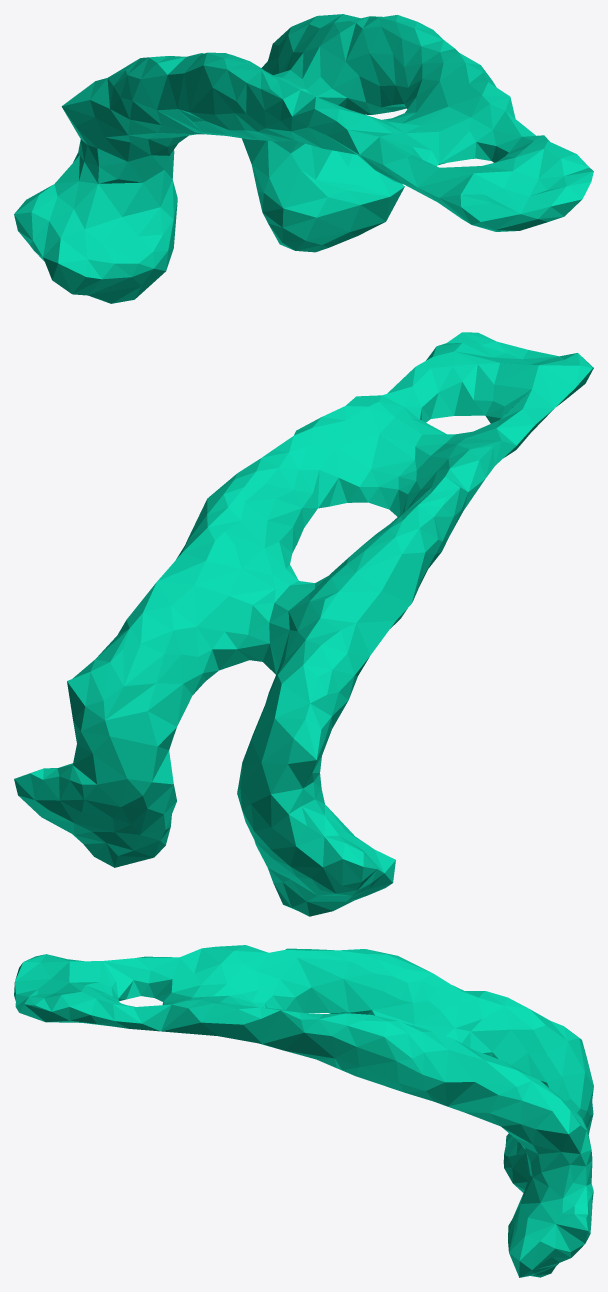
Rendered from 25-30-area 30 of cortex-('0.0000', '1.0000', '0.8039').obj.
The picture shows the model from 3 angles, top to bottom: view 1: azimuth 30°, elevation 25°; view 2: azimuth 150°, elevation 25°; view 3: azimuth 270°, elevation 25°; orthographic projection. The views are drawn at different scales.
Size of the model in its own units: 62.47 by 55.57 by 111.
